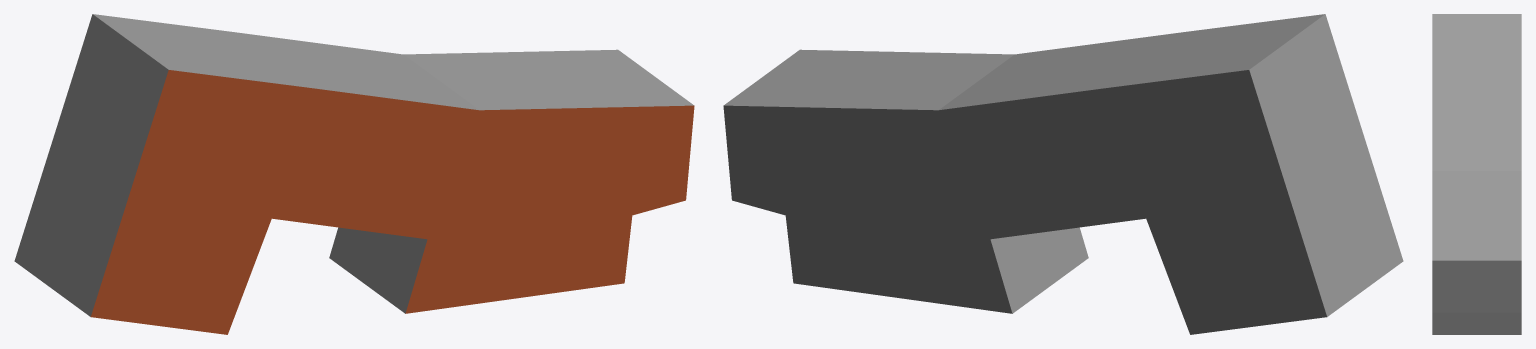
Rendered from construction_6840_assumed_A_Casa_h6m.obj.
The picture shows the model from 3 angles, left to right: view 1: azimuth 30°, elevation 25°; view 2: azimuth 150°, elevation 25°; view 3: azimuth 270°, elevation 25°; orthographic projection. The views are drawn at different scales.
Visible parts, largest first — view 1: construction_6840_assumed_A_Casa; view 2: construction_6840_assumed_A_Casa; view 3: construction_6840_assumed_A_Casa.
Part boxes in pixels (left/top/right/bottom): construction_6840_assumed_A_Casa: left=14, top=14, right=694, bottom=334; construction_6840_assumed_A_Casa: left=723, top=14, right=1403, bottom=334; construction_6840_assumed_A_Casa: left=1432, top=14, right=1521, bottom=334.
Size of the model in its own units: 27.42 by 14.1 by 6.
